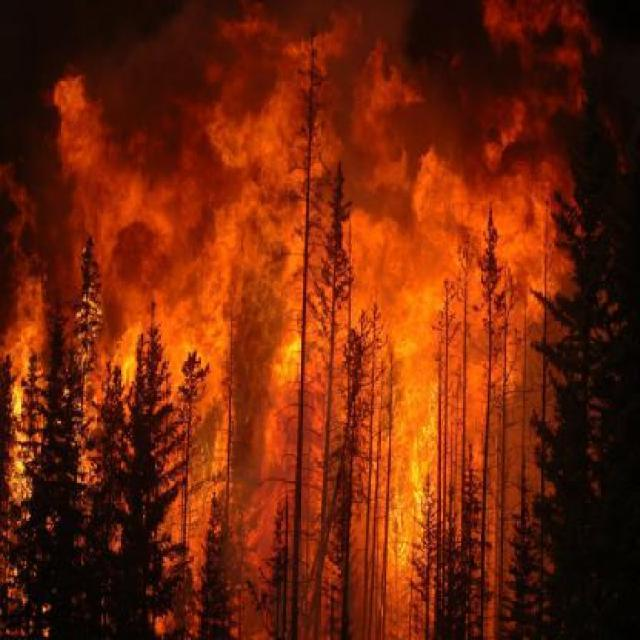Fire: (7, 5, 595, 638)
